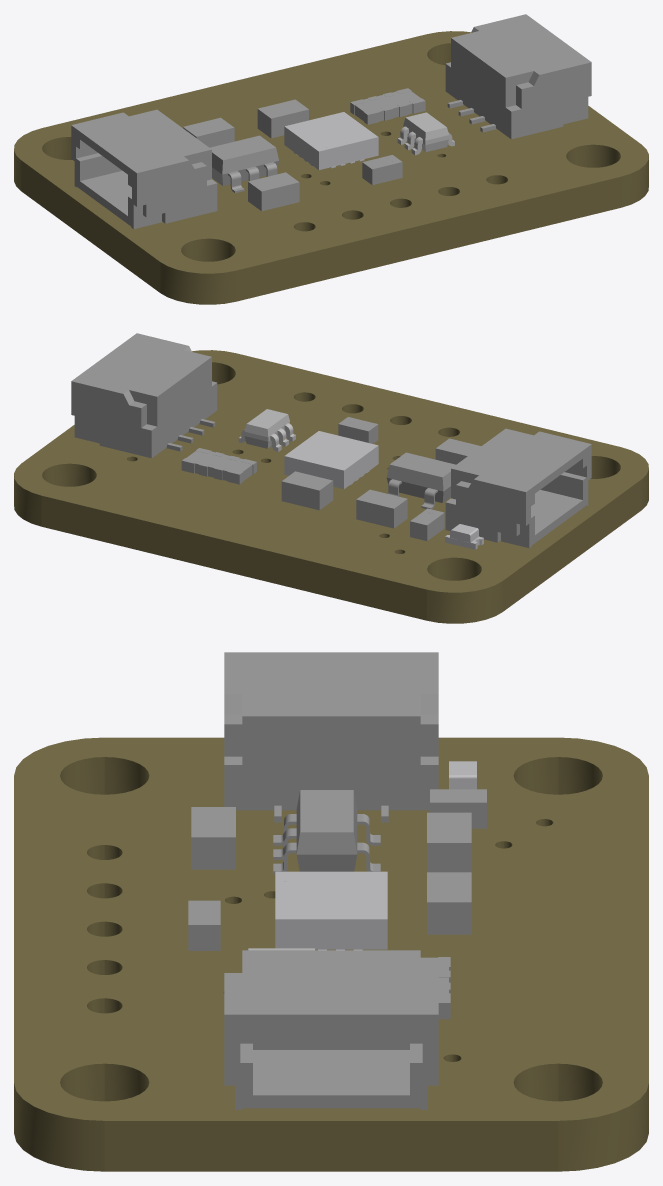
The model's file is ada-6388.glb.
3 renders of one model, top to bottom at view 1: azimuth 30°, elevation 25°; view 2: azimuth 150°, elevation 25°; view 3: azimuth 270°, elevation 25°, orthographic. The views are drawn at different scales.
Visible parts, largest first — view 1: 0.16666666666666666_0.16666666666666666_0.08333333333333333_, 0.3333333333333333_0.3333333333333333_0.3333333333333333_0, 0.5833333333333334_0.5833333333333334_0.5833333333333334_0.8, 0.5_0.5_0.5_0.85; view 2: 0.16666666666666666_0.16666666666666666_0.08333333333333333_, 0.3333333333333333_0.3333333333333333_0.3333333333333333_0, 0.5833333333333334_0.5833333333333334_0.5833333333333334_0.8, 0.5_0.5_0.5_0.85; view 3: 0.16666666666666666_0.16666666666666666_0.08333333333333333_, 0.3333333333333333_0.3333333333333333_0.3333333333333333_0, 0.5833333333333334_0.5833333333333334_0.5833333333333334_0.8.
Part boxes in pixels (x1,y1,x2,y2): 0.16666666666666666_0.16666666666666666_0.08333333333333333_: (14,31,648,304); 0.3333333333333333_0.3333333333333333_0.3333333333333333_0: (71,14,591,229); 0.5833333333333334_0.5833333333333334_0.5833333333333334_0.8: (284,112,378,169); 0.5_0.5_0.5_0.85: (397,112,454,155); 0.16666666666666666_0.16666666666666666_0.08333333333333333_: (14,350,648,623); 0.3333333333333333_0.3333333333333333_0.3333333333333333_0: (71,333,591,548); 0.5833333333333334_0.5833333333333334_0.5833333333333334_0.8: (284,431,483,549); 0.5_0.5_0.5_0.85: (238,409,295,451); 0.16666666666666666_0.16666666666666666_0.08333333333333333_: (14,737,648,1171); 0.3333333333333333_0.3333333333333333_0.3333333333333333_0: (188,652,486,1109); 0.5833333333333334_0.5833333333333334_0.5833333333333334_0.8: (275,761,476,950).
Bounding box in the file's own units: 2.54 × 0.4529 × 1.78.
